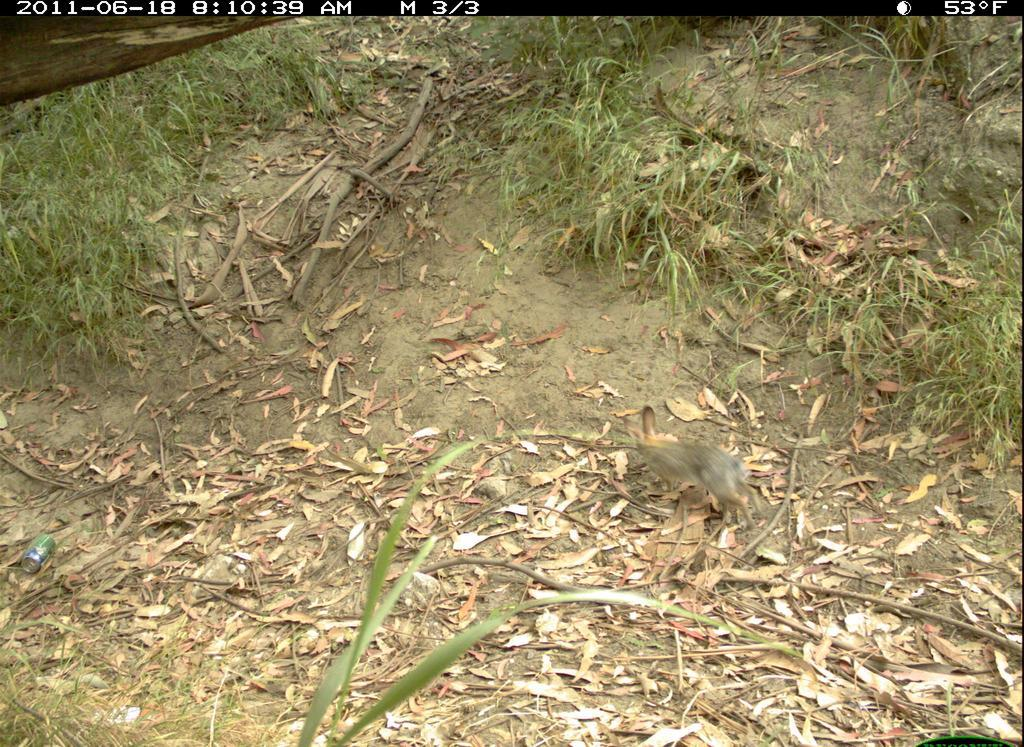rabbit: (624, 404, 765, 537)
